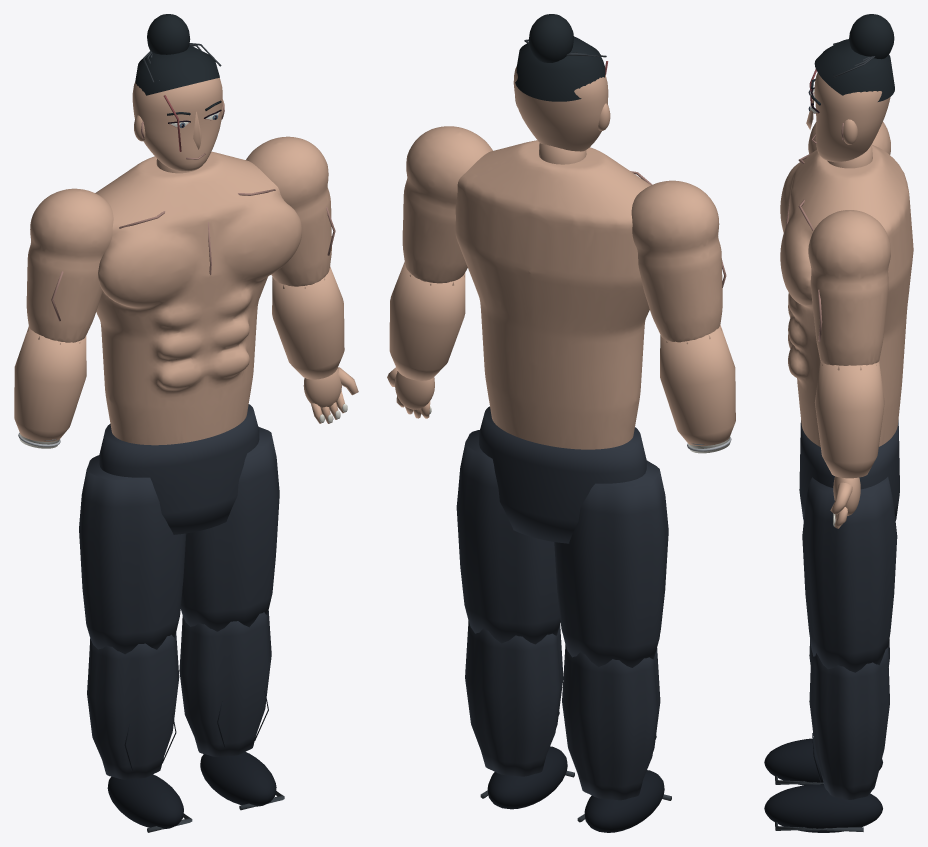
File: todoInjured.glb
3 renders of one model, left to right at view 1: azimuth 30°, elevation 25°; view 2: azimuth 150°, elevation 25°; view 3: azimuth 270°, elevation 25°, orthographic. The views are drawn at different scales.
Parts seen in each view (by area): view 1: continuous athletic torso.002, draped trouser upper leg.016, draped trouser upper leg.017, draped trouser lower leg.016, draped trouser lower leg.017, continuous upper arm anatomy.010, fitted trouser seat.008, finger.124, continuous upper arm anatomy.011, forearm anatomy.012, ear.012, brow.028 (+2 smaller); view 2: continuous athletic torso.002, draped trouser upper leg.016, draped trouser upper leg.017, continuous upper arm anatomy.010, draped trouser lower leg.016, draped trouser lower leg.017, fitted trouser seat.008, continuous upper arm anatomy.011, finger.124, forearm anatomy.012, brow.028, ear.012 (+2 smaller); view 3: continuous athletic torso.002, draped trouser upper leg.017, continuous upper arm anatomy.011, draped trouser lower leg.017, finger.124, brow.028, ear.012, ankle gathered cloth crease.034, fitted trouser seat.008, ankle gathered cloth crease.032, continuous upper arm anatomy.010, sole edge.027.
Part boxes in pixels (box(x1,y1,x2,y2)): continuous athletic torso.002: box(95, 151, 301, 445); draped trouser upper leg.016: box(79, 455, 186, 654); draped trouser upper leg.017: box(180, 426, 279, 631); draped trouser lower leg.016: box(87, 633, 179, 779); draped trouser lower leg.017: box(179, 611, 271, 756); continuous upper arm anatomy.010: box(26, 188, 113, 342); fitted trouser seat.008: box(99, 404, 259, 534); finger.124: box(272, 266, 358, 423); continuous upper arm anatomy.011: box(246, 136, 331, 286); forearm anatomy.012: box(14, 326, 86, 441); ear.012: box(132, 78, 224, 171); brow.028: box(135, 14, 221, 115); continuous athletic torso.002: box(455, 140, 650, 449); draped trouser upper leg.016: box(554, 460, 668, 667); draped trouser upper leg.017: box(456, 430, 560, 644); continuous upper arm anatomy.010: box(631, 180, 722, 342); draped trouser lower leg.016: box(562, 644, 660, 800); draped trouser lower leg.017: box(465, 621, 563, 776); fitted trouser seat.008: box(479, 406, 646, 543); continuous upper arm anatomy.011: box(402, 126, 492, 283); finger.124: box(387, 262, 465, 418); forearm anatomy.012: box(660, 325, 735, 446); brow.028: box(515, 14, 605, 101); ear.012: box(513, 66, 610, 151); continuous athletic torso.002: box(780, 144, 913, 446); draped trouser upper leg.017: box(802, 477, 897, 672); continuous upper arm anatomy.011: box(808, 210, 890, 365); draped trouser lower leg.017: box(809, 647, 889, 799); finger.124: box(814, 361, 884, 528); brow.028: box(811, 14, 894, 105); ear.012: box(806, 72, 890, 162); ankle gathered cloth crease.034: box(764, 733, 882, 832); fitted trouser seat.008: box(799, 420, 899, 520); ankle gathered cloth crease.032: box(764, 738, 882, 785); continuous upper arm anatomy.010: box(808, 122, 890, 154); sole edge.027: box(775, 822, 863, 831).
Bounding box in the file's own units: 0.8578 × 1.91 × 0.3268.
